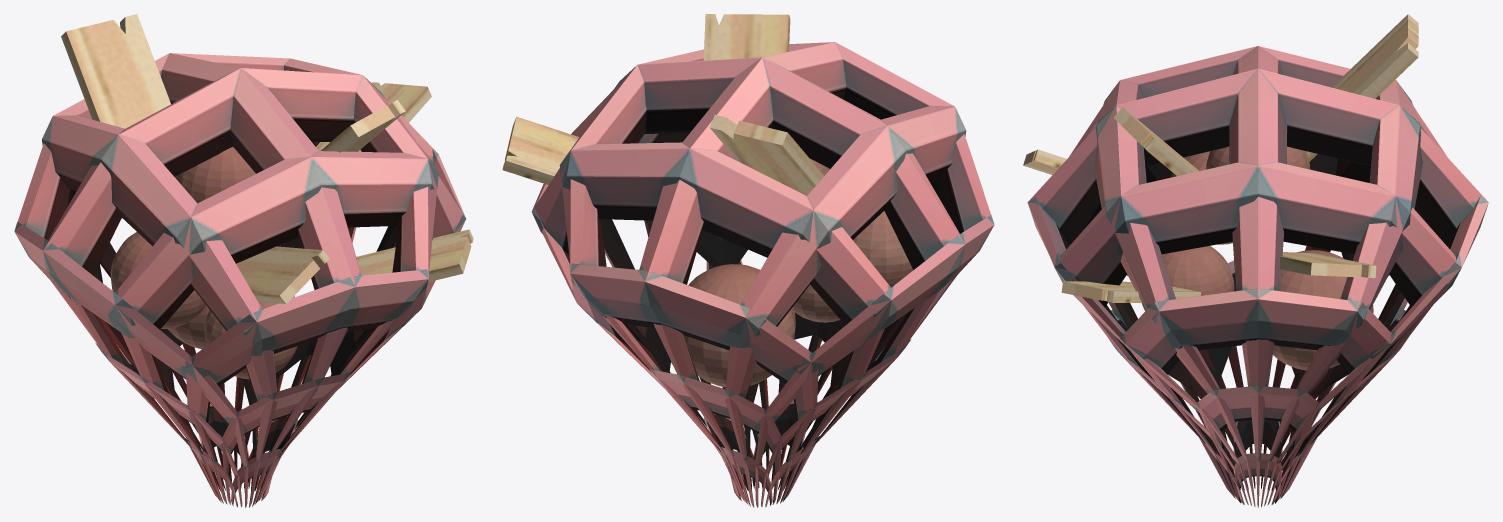
File: Net_Rise.fbx
3 views of the same model, side by side, from view 1: azimuth 30°, elevation 25°; view 2: azimuth 150°, elevation 25°; view 3: azimuth 270°, elevation 25° (orthographic). The views are drawn at different scales.
Visible parts, largest first — view 1: ami_kaishu_obj; view 2: ami_kaishu_obj; view 3: ami_kaishu_obj.
Boxes of the visible parts, <box> form: ami_kaishu_obj: <box>14,14,473,507</box>; ami_kaishu_obj: <box>502,14,994,507</box>; ami_kaishu_obj: <box>1023,14,1488,507</box>.
Bounding box in the file's own units: 0.5502 × 0.5528 × 0.535.
1 material, 1 textured.
